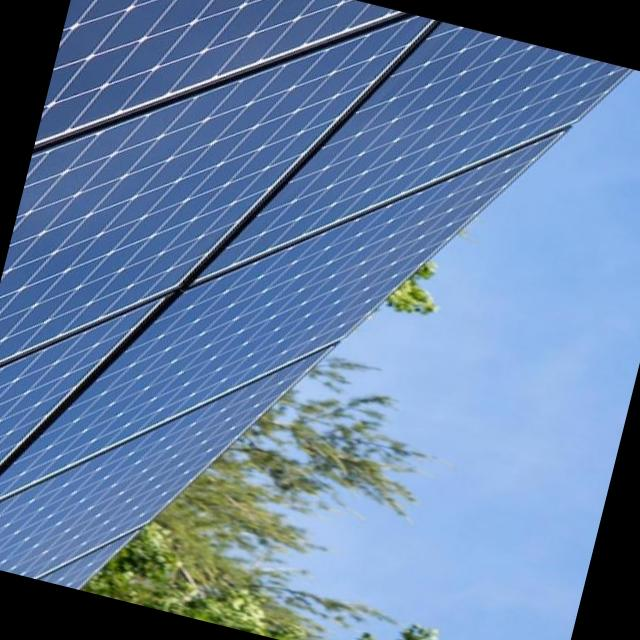no faulty: (0, 144, 551, 501), (0, 18, 419, 361), (200, 19, 621, 285), (0, 353, 320, 576), (35, 0, 384, 139), (0, 299, 160, 466), (40, 544, 116, 580)
